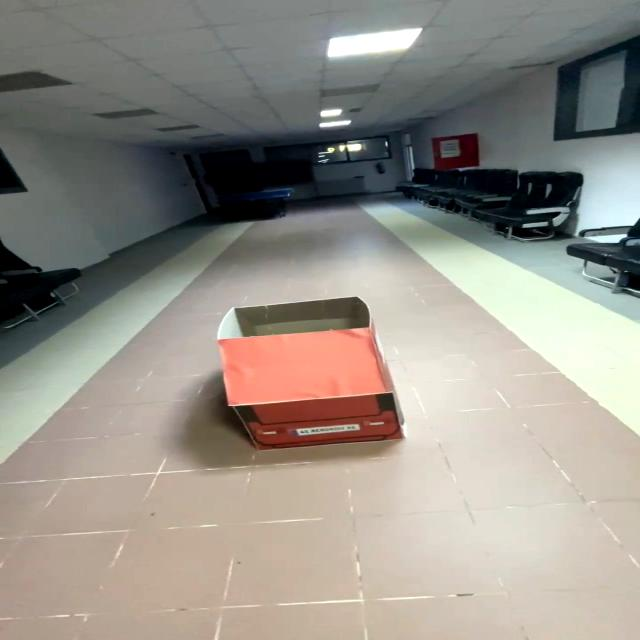red_car: (194, 287, 428, 468)
